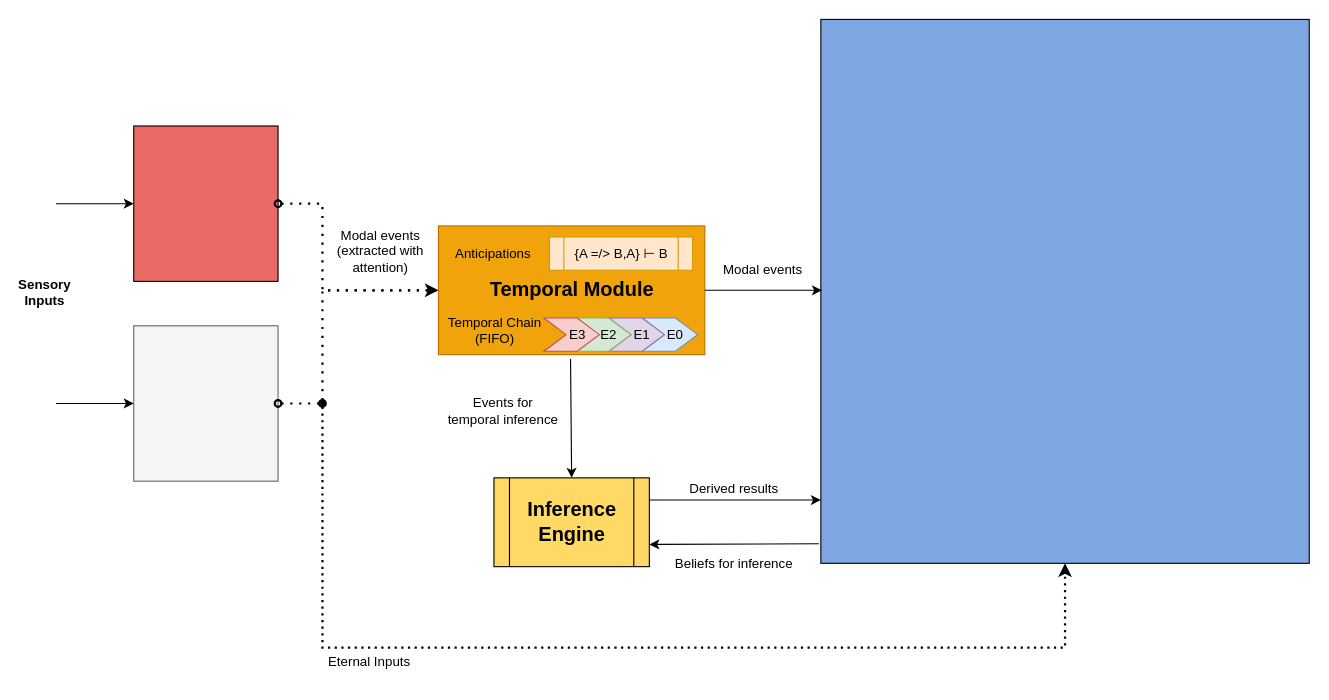
The diagram is 1329 pixels wide and 700 high, and some of its shapes have lost their labels. The centre of each missing label's shape, as x and y in pixels:
"Memory (bag)" goes at pixel 1064 290.
"Narsese Buffer (Bag, topographical mapping preserved)" goes at pixel 205 403.
"Visual Buffer (Bag, topographical mapping preserved)" goes at pixel 205 203.
